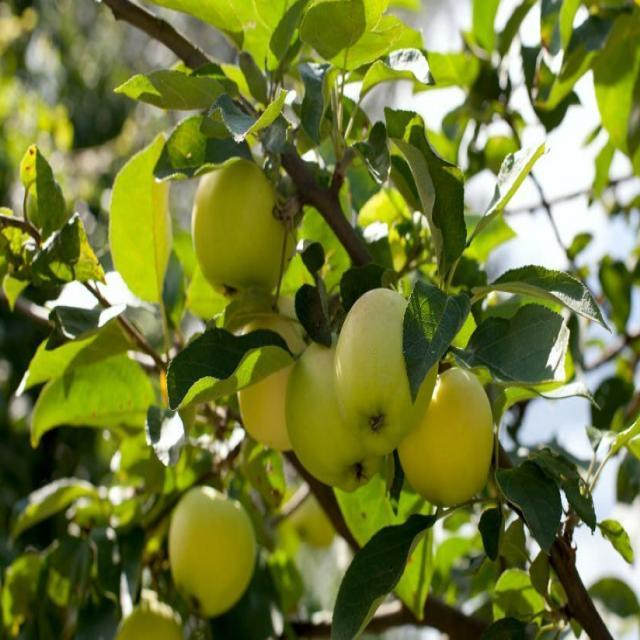Green Apple: (338, 292, 433, 456), (192, 158, 296, 283), (171, 479, 259, 625), (412, 368, 490, 516), (242, 309, 322, 446), (303, 336, 373, 489), (106, 589, 182, 640)
